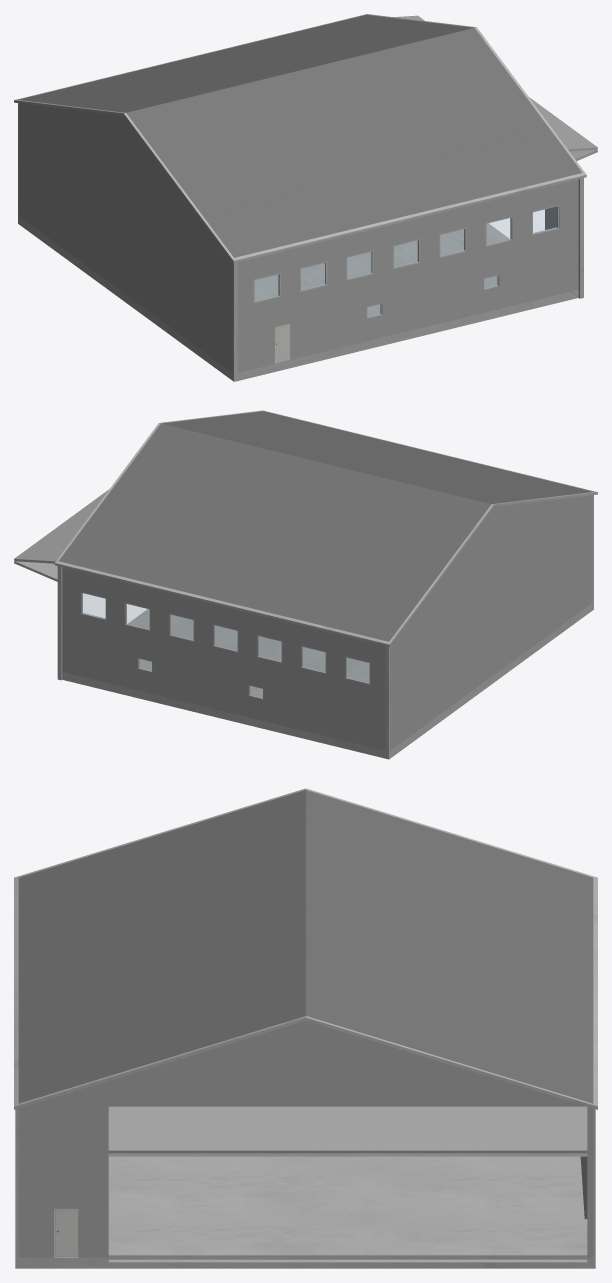
Rendered from gen_open_hangar05-24x22x7-cbj_LOD02.gltf.
3 views of the same model, one above another, from view 1: azimuth 30°, elevation 25°; view 2: azimuth 150°, elevation 25°; view 3: azimuth 270°, elevation 25° (orthographic). The views are drawn at different scales.
Parts seen in each view (by area): view 1: Cylinder.009; view 2: Cylinder.009; view 3: Cylinder.009.
Boxes of the visible parts, x1,y1,x2,y2 form: Cylinder.009: (14, 14, 597, 381); Cylinder.009: (14, 410, 597, 759); Cylinder.009: (14, 788, 597, 1268).
Size of the model in its own units: 25.65 by 11.65 by 24.4.
